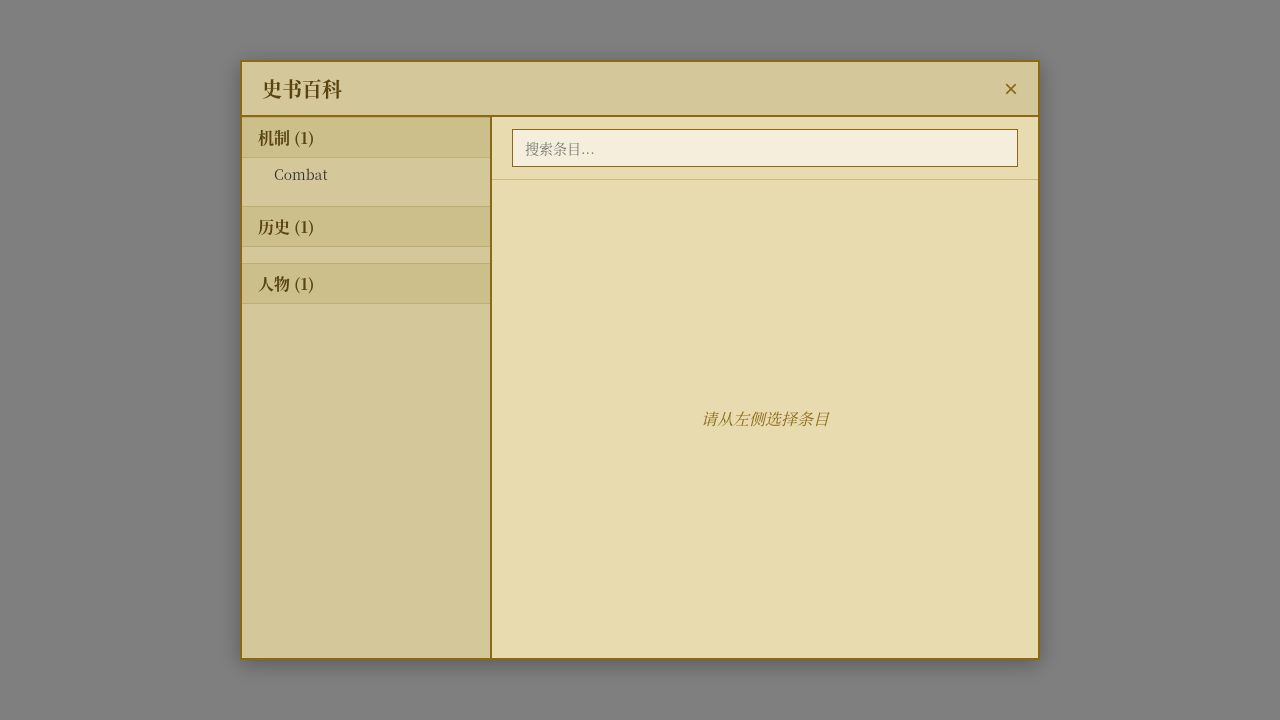
Scenario: CodexPanel › shows entries for selected category
This screenshot has width=1280, height=720.
Check: the text "Combat" is shown, box x1=274 y1=164 x2=328 y2=184
Click the text with test id "codex-category-history": coordinates (366, 226) x1=242 y1=206 x2=490 y2=247
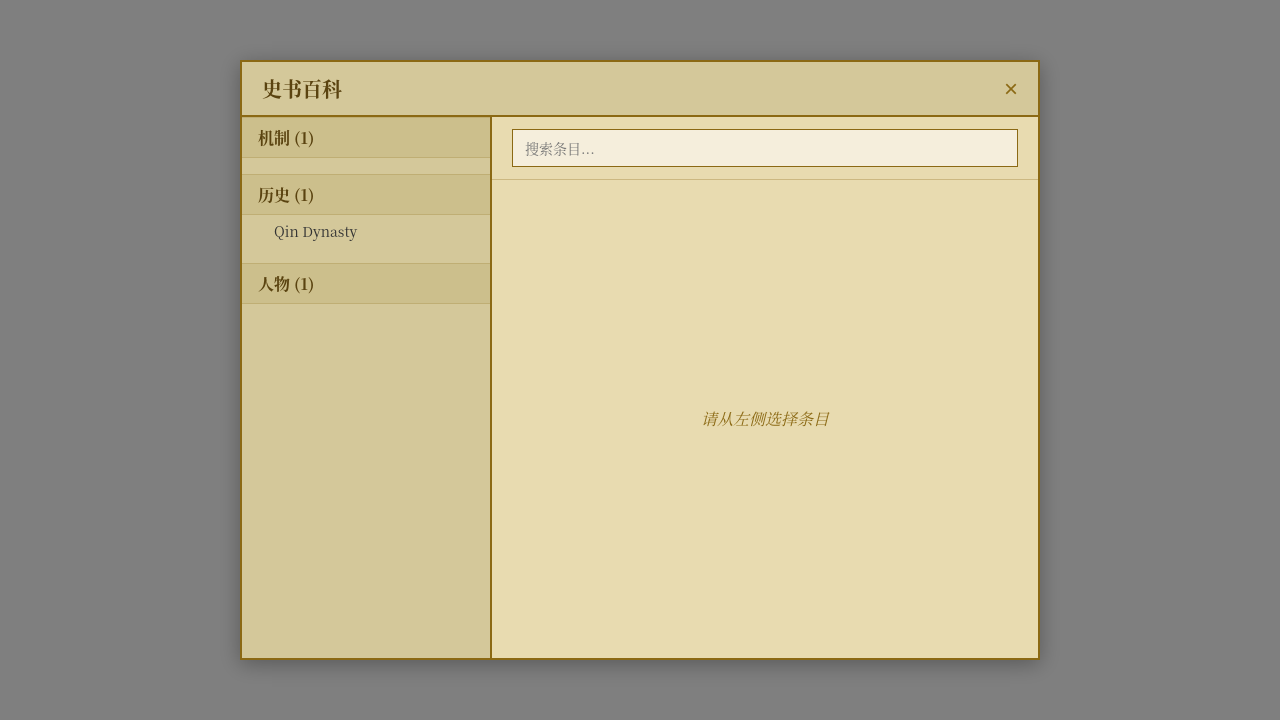
Check: the text with test id "codex-entry-mech-1" is gone
Check: the text "Qin Dynasty" is shown, box x1=274 y1=221 x2=357 y2=241
